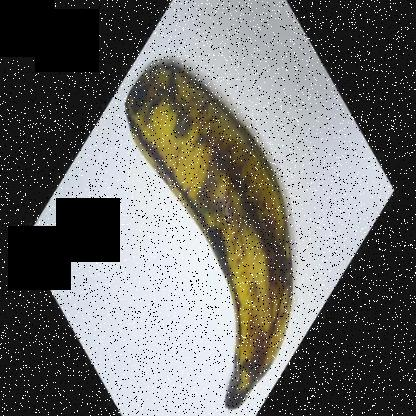overripe: (113, 45, 305, 415)
rotten: (182, 164, 259, 260)
